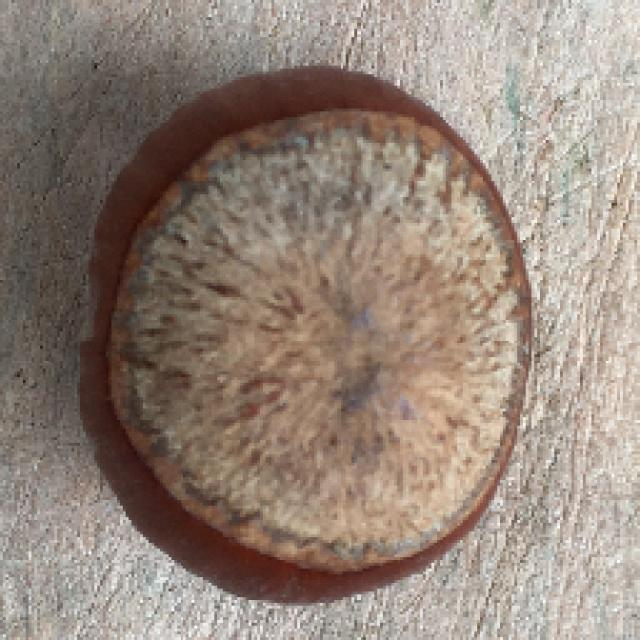qualityHazelnut: (64, 62, 538, 606)
